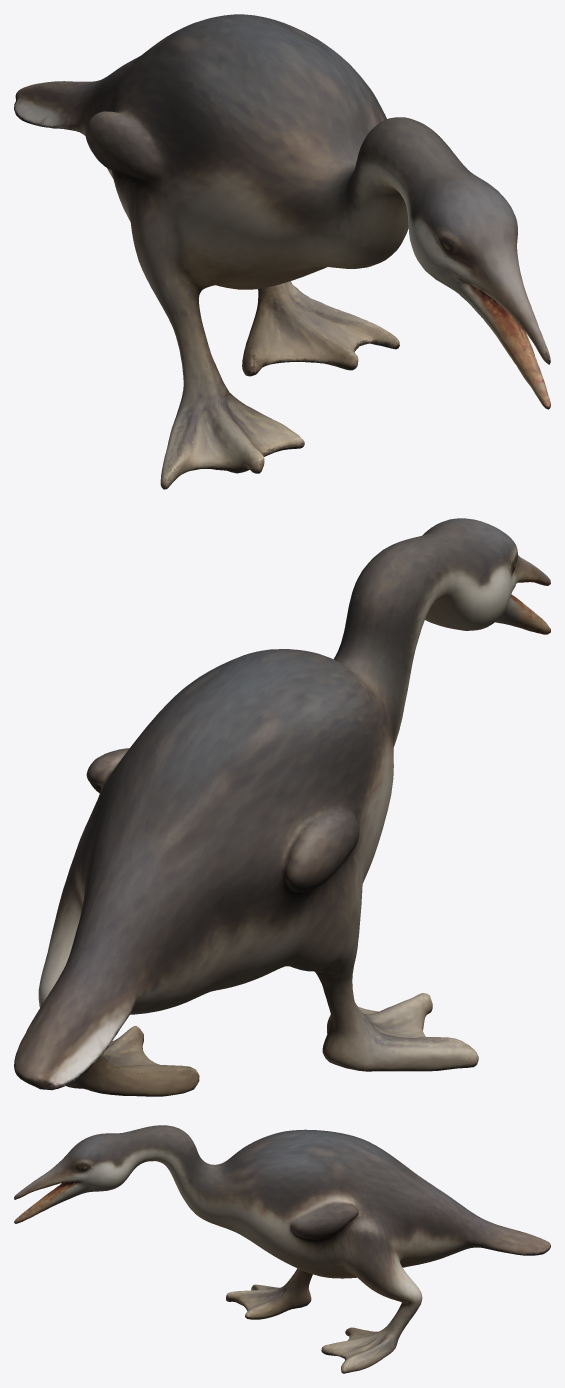
3 renders of one model, top to bottom at view 1: azimuth 30°, elevation 25°; view 2: azimuth 150°, elevation 25°; view 3: azimuth 270°, elevation 25°, orthographic. The views are drawn at different scales.
Visible parts, largest first — view 1: world; view 2: world; view 3: world.
Part boxes in pixels (x1,y1,x2,y2): world: [14, 14, 550, 489]; world: [14, 518, 550, 1096]; world: [14, 1125, 550, 1373].
Bounding box in the file's own units: 0.5844 × 0.6788 × 1.6.
1 material, 1 textured.
